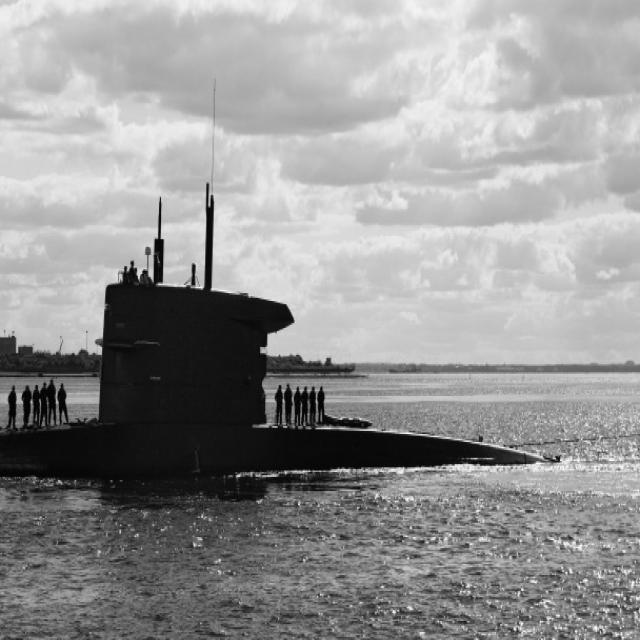submarine: (1, 279, 546, 484)
